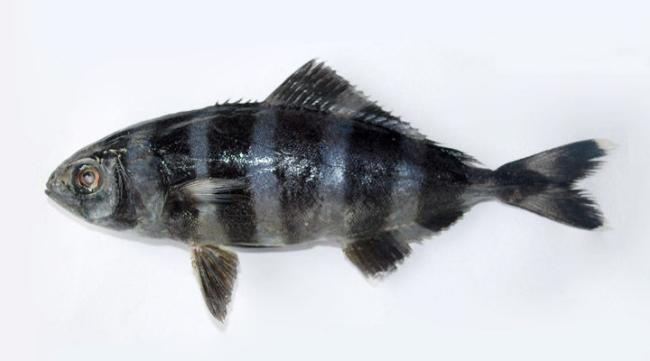fish: (43, 58, 615, 323)
